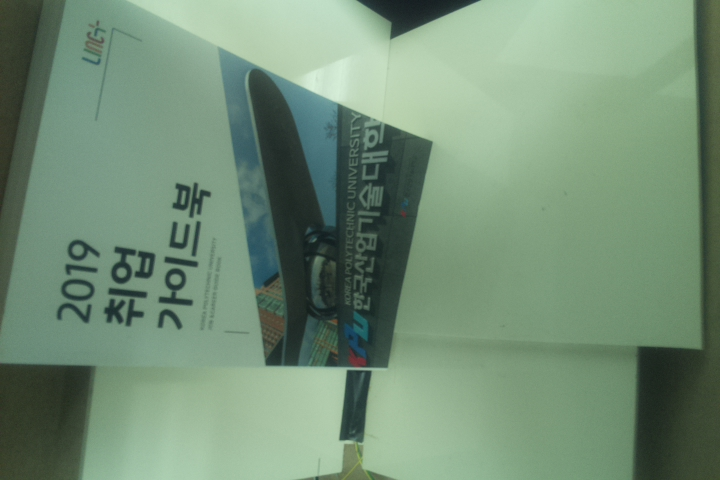book: (1, 1, 437, 373)
